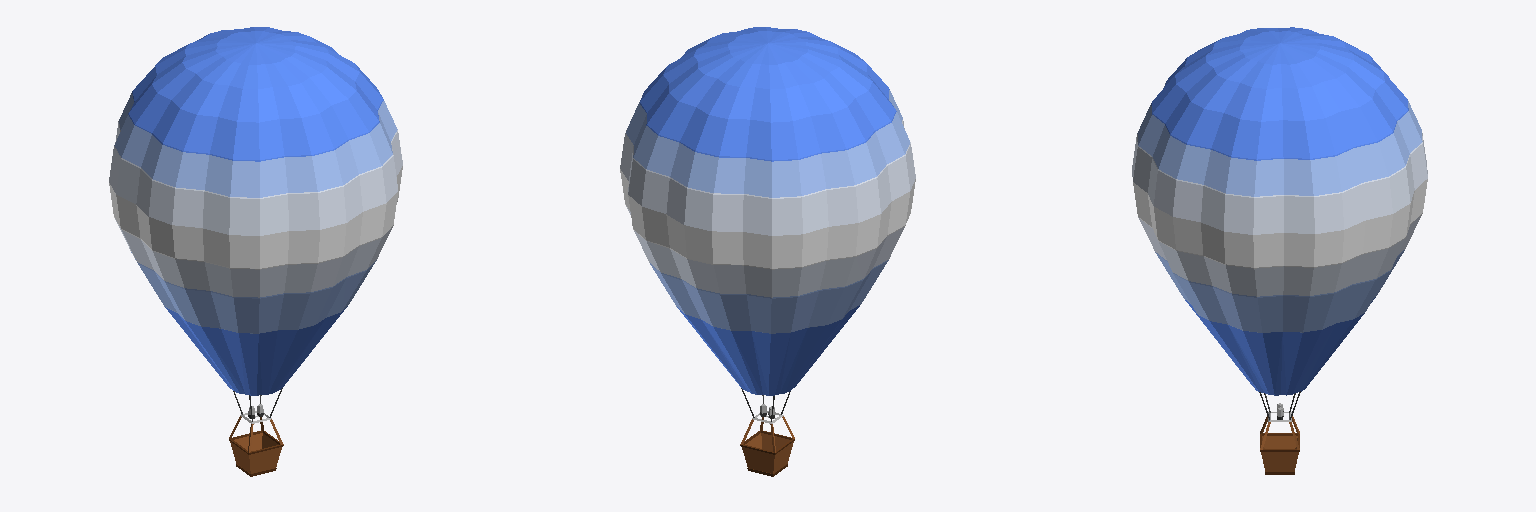
The picture shows the model from 3 angles: view 1: azimuth 30°, elevation 25°; view 2: azimuth 150°, elevation 25°; view 3: azimuth 270°, elevation 25°; orthographic projection.
Visible parts, largest first — view 1: Hot_Air_Balloon; view 2: Hot_Air_Balloon; view 3: Hot_Air_Balloon.
Part boxes in pixels (bbox=[...]): Hot_Air_Balloon: bbox=[109, 27, 402, 476]; Hot_Air_Balloon: bbox=[620, 27, 915, 476]; Hot_Air_Balloon: bbox=[1132, 27, 1427, 474].
Bounding box in the file's own units: 25.37 × 40.75 × 25.71.
Materials: 1 (1 with a texture image).